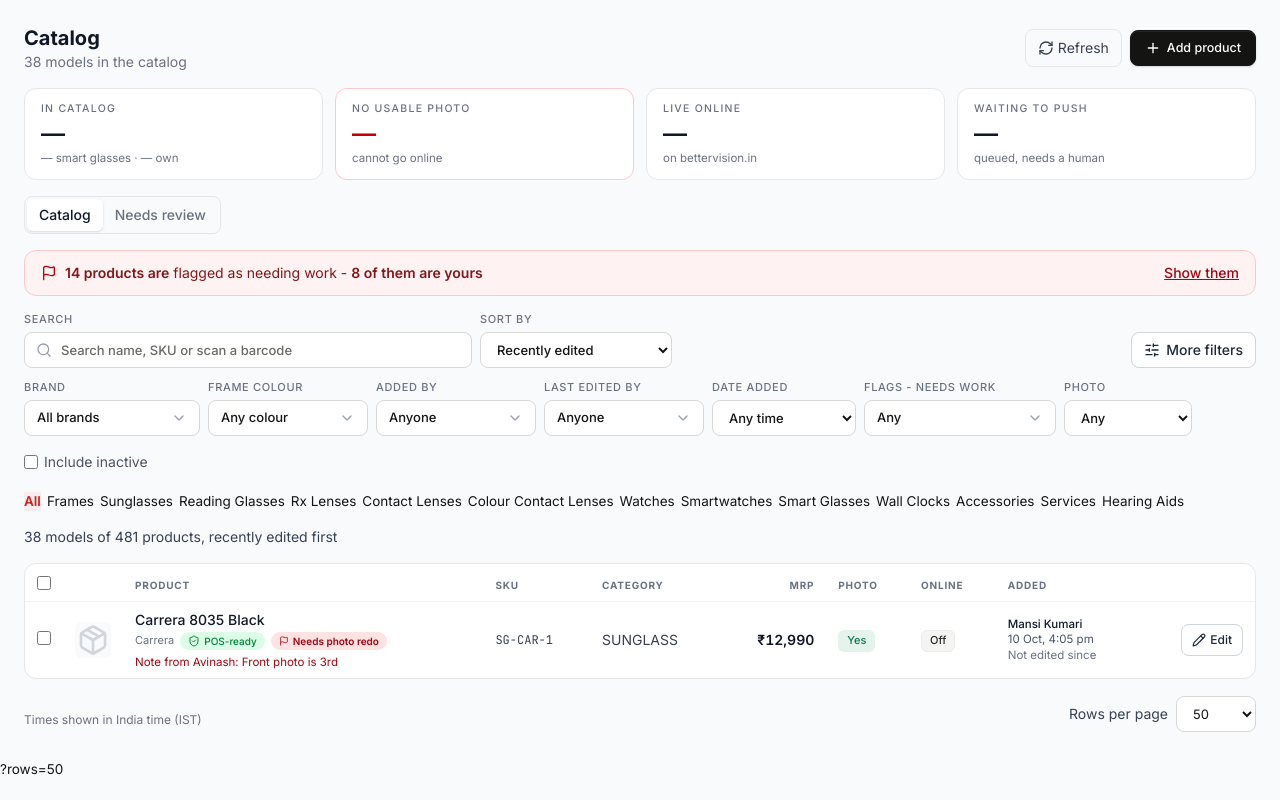
the Flag dialog names who gets the tasks from the server › the server's answer, not the row's adder
Expected: the table with test id "catalog-table" is shown, [25,564,1255,678]
Click the checkbox named "Select Carrera 8035 Black" at (44, 639), box [37,632,51,646]
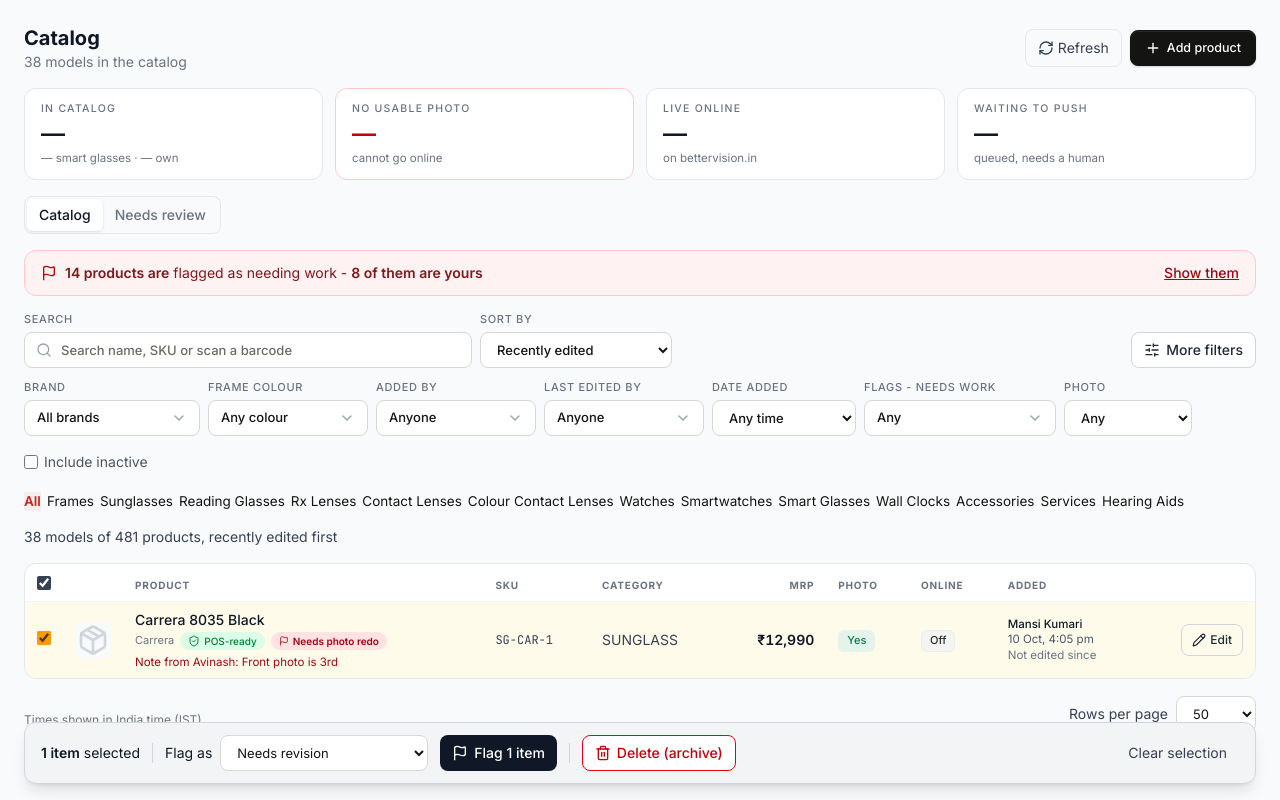
Click the button "Flag 1 item" at (499, 753), box [440,735,557,771]
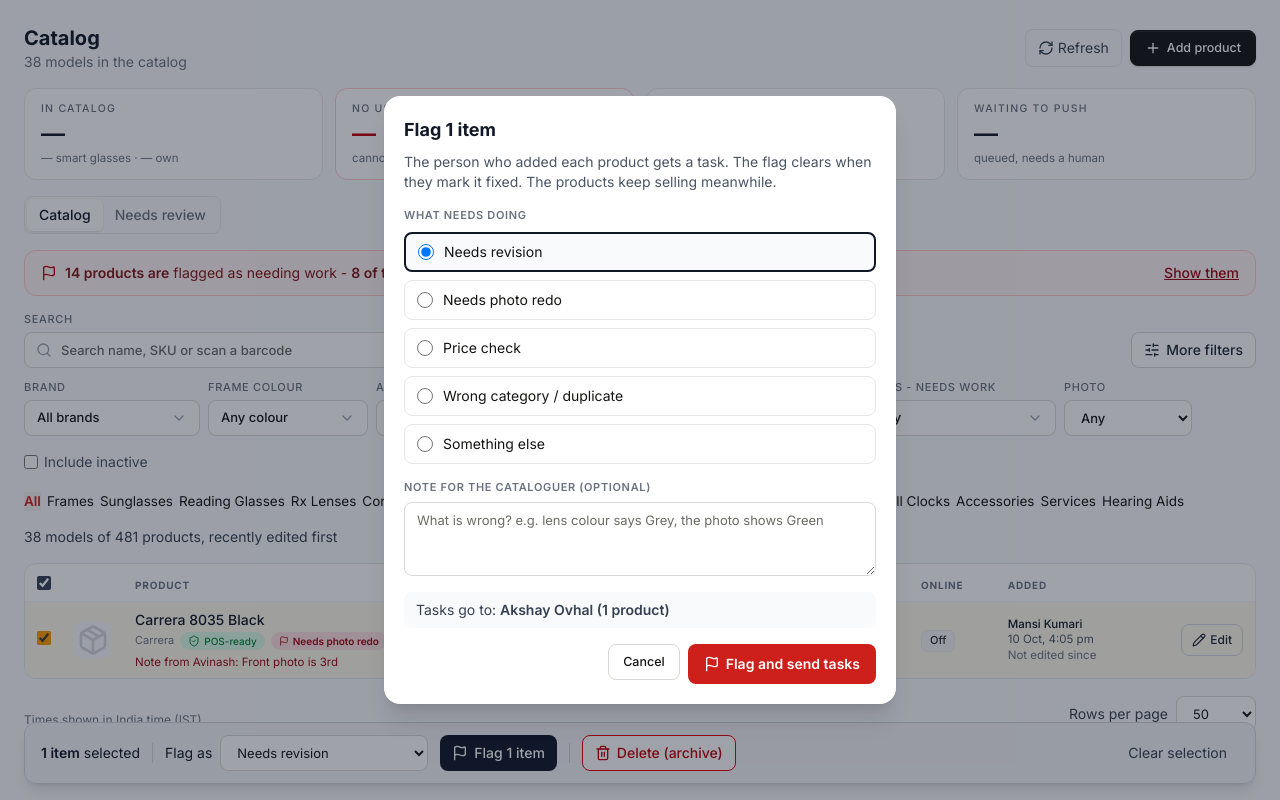
Expected: the element with test id "tasks-go-to" reads "Tasks go to: Akshay Ovhal (1 product)", [404,592,876,628]
